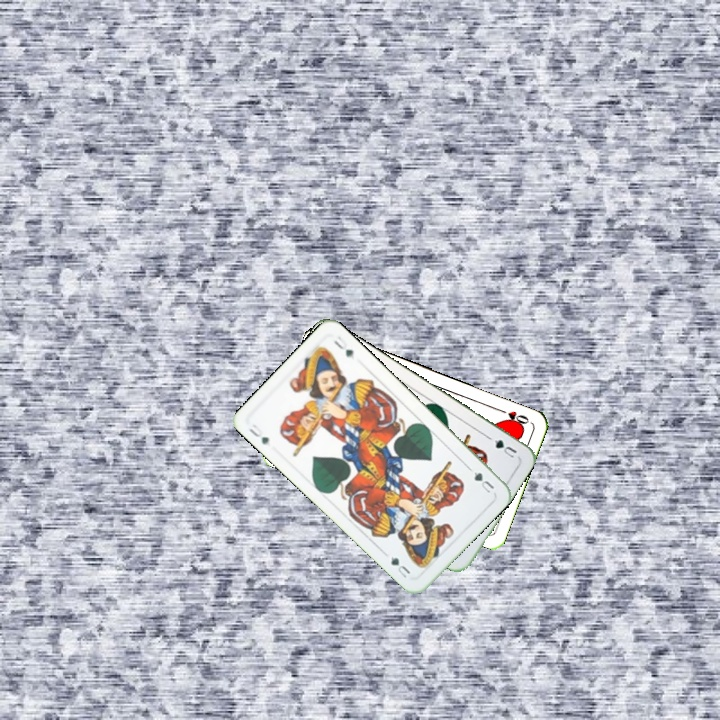GU: (465, 463, 497, 496), (490, 435, 520, 461), (245, 420, 271, 448)
HO: (494, 404, 532, 427)
